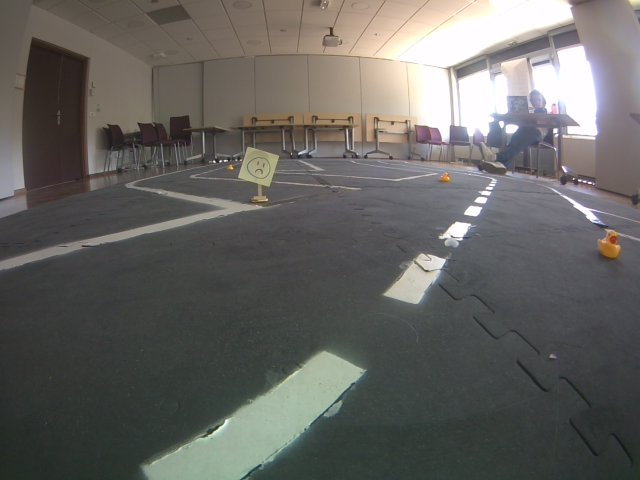Smiley: (237, 145, 279, 189)
